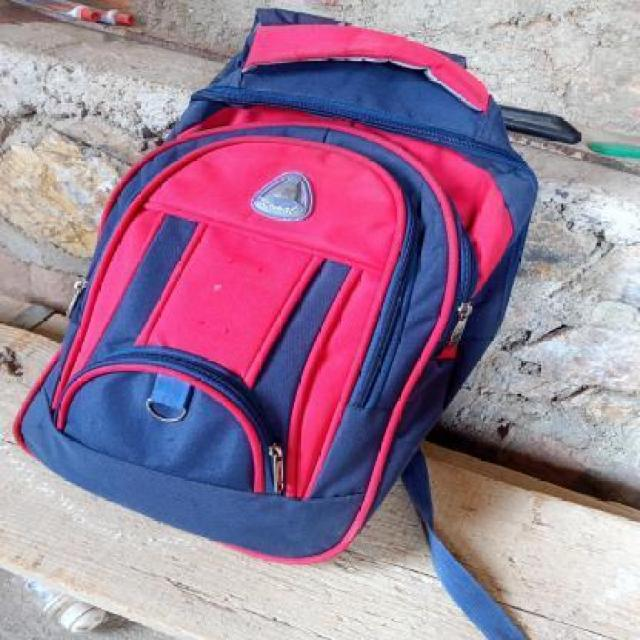backpack: (11, 3, 544, 574)
